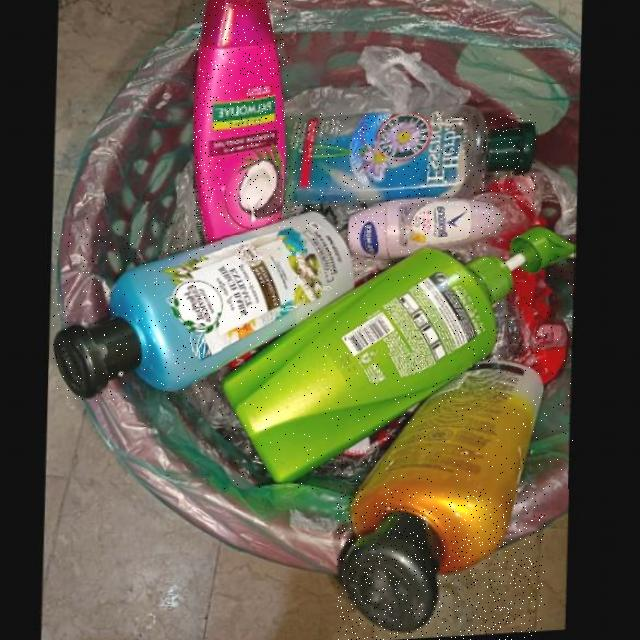plastic: (223, 235, 575, 489), (338, 368, 545, 640), (53, 218, 356, 402), (286, 113, 537, 211), (194, 1, 289, 252), (349, 205, 504, 266)
